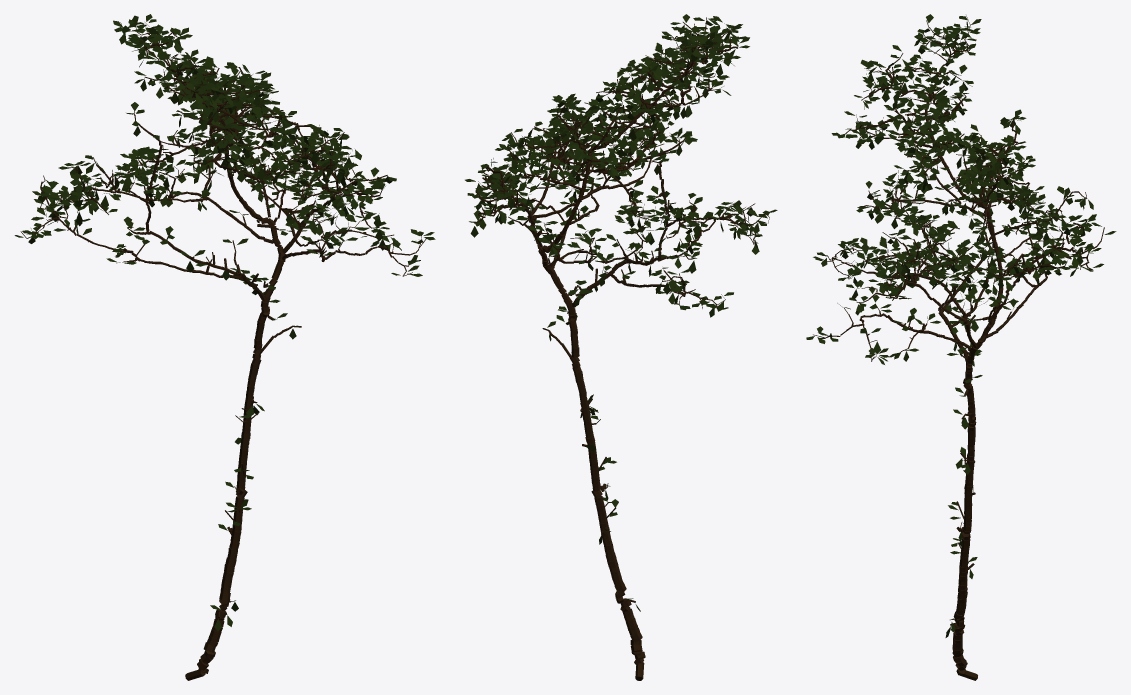
Rendered from tree_349.obj.
3 views of the same model, side by side, from view 1: azimuth 30°, elevation 25°; view 2: azimuth 150°, elevation 25°; view 3: azimuth 270°, elevation 25° (orthographic). The views are drawn at different scales.
Visible parts, largest first — view 1: Leaves, TrunkAndBranches; view 2: Leaves, TrunkAndBranches; view 3: Leaves, TrunkAndBranches.
Boxes of the visible parts, x1,y1,x2,y2 form: Leaves: (14, 14, 435, 631); TrunkAndBranches: (20, 22, 426, 680); Leaves: (465, 14, 777, 611); TrunkAndBranches: (474, 17, 769, 680); Leaves: (806, 14, 1116, 637); TrunkAndBranches: (813, 15, 1104, 680).
Size of the model in its own units: 7.93 by 15.6 by 6.93.
